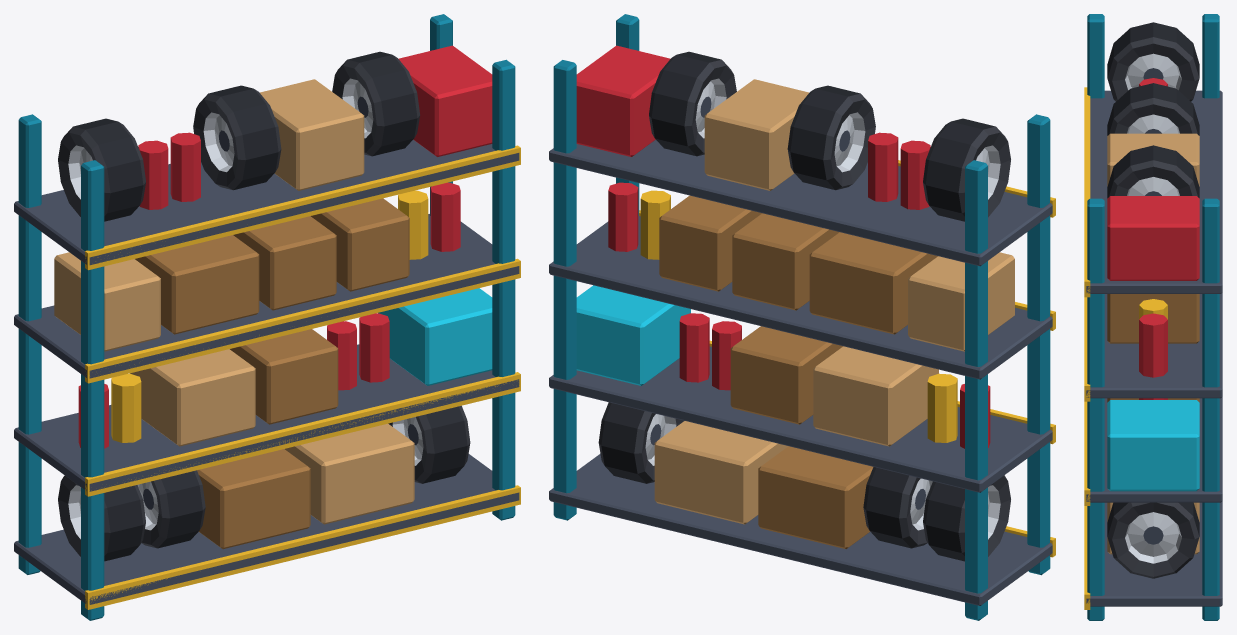
Rendered from PartsShelf.fbx.
3 views of the same model, side by side, from view 1: azimuth 30°, elevation 25°; view 2: azimuth 150°, elevation 25°; view 3: azimuth 270°, elevation 25° (orthographic). The views are drawn at different scales.
Visible parts, largest first — view 1: PartsShelf; view 2: PartsShelf; view 3: PartsShelf.
Part boxes in pixels (left/top/right/bottom): PartsShelf: left=14, top=14, right=520, bottom=620; PartsShelf: left=549, top=14, right=1055, bottom=620; PartsShelf: left=1084, top=14, right=1222, bottom=620.
Bounding box in the file's own units: 8 × 8.1 × 2.4.
1 material, 1 textured.
